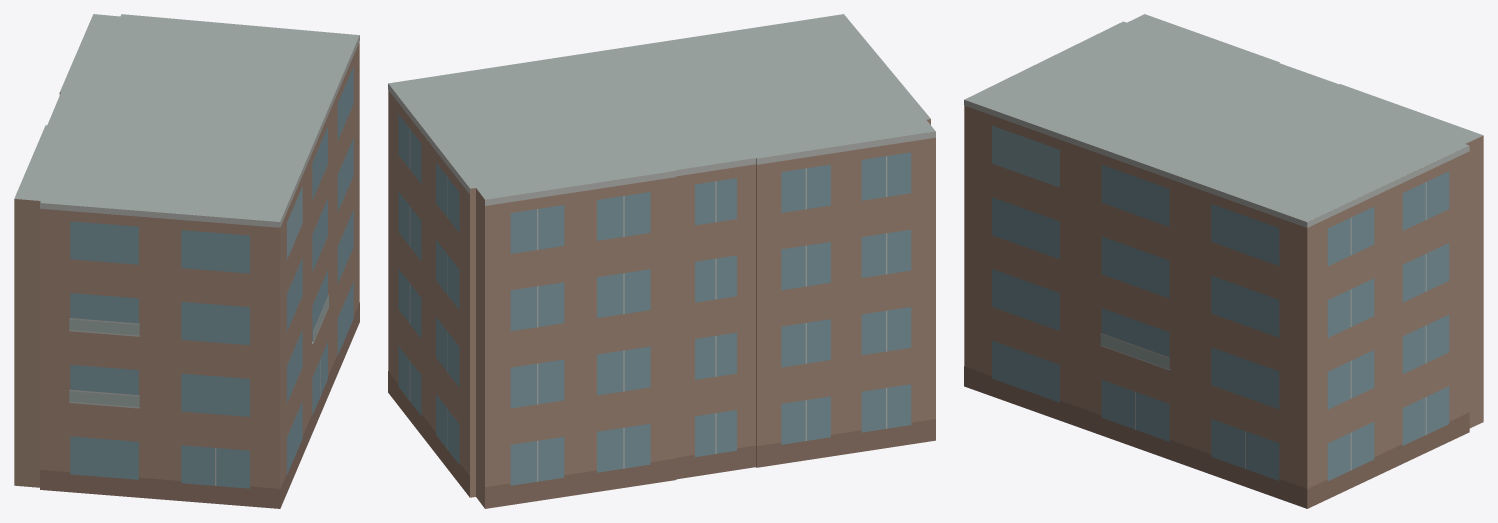
The model's file is survey-upis-33018564.glb.
3 renders of one model, left to right at view 1: azimuth 30°, elevation 25°; view 2: azimuth 150°, elevation 25°; view 3: azimuth 270°, elevation 25°, orthographic. The views are drawn at different scales.
Visible parts, largest first — view 1: survey-upis-33018564.tmp; view 2: survey-upis-33018564.tmp; view 3: survey-upis-33018564.tmp.
Part boxes in pixels (bbox=[...]): survey-upis-33018564.tmp: bbox=[14, 14, 359, 508]; survey-upis-33018564.tmp: bbox=[388, 14, 935, 508]; survey-upis-33018564.tmp: bbox=[964, 14, 1483, 508].
Size of the model in its own units: 18.94 by 12.15 by 19.97.
